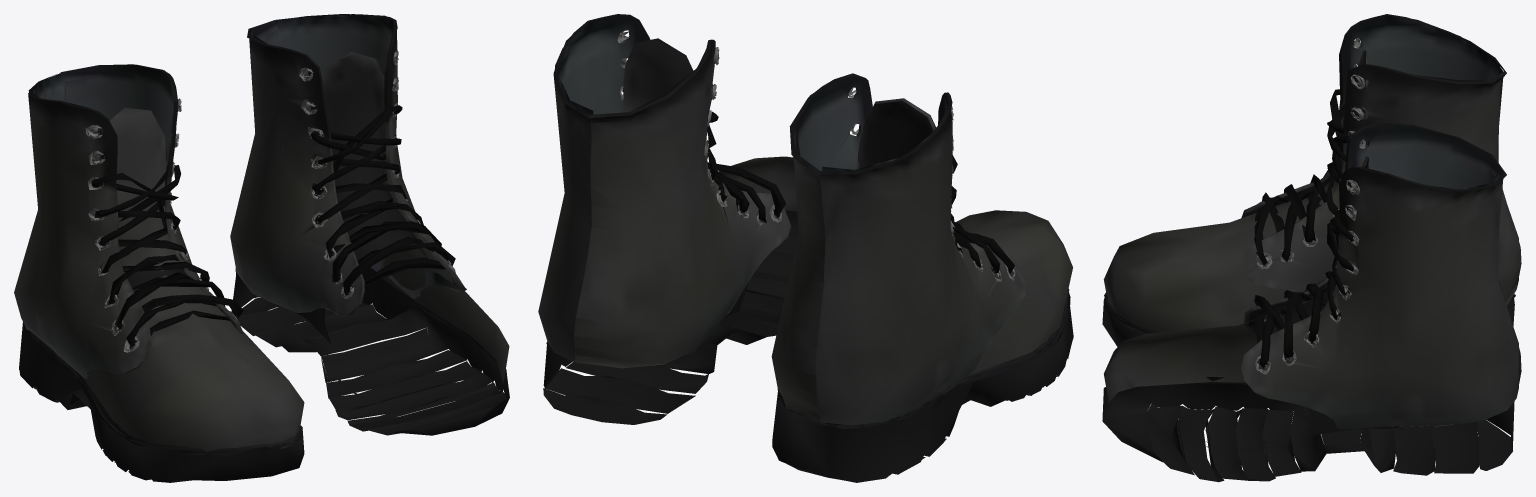
The model's file is ropa_old_shoes.glb.
3 views of the same model, side by side, from view 1: azimuth 30°, elevation 25°; view 2: azimuth 150°, elevation 25°; view 3: azimuth 270°, elevation 25° (orthographic). The views are drawn at different scales.
Visible parts, largest first — view 1: Object_4; view 2: Object_4; view 3: Object_4.
Boxes of the visible parts, <box> form: Object_4: <box>14,14,509,482</box>; Object_4: <box>538,14,1073,482</box>; Object_4: <box>1102,14,1521,482</box>.
Bounding box in the file's own units: 0.2971 × 0.239 × 0.2993.
Materials: 1 (1 with a texture image).
